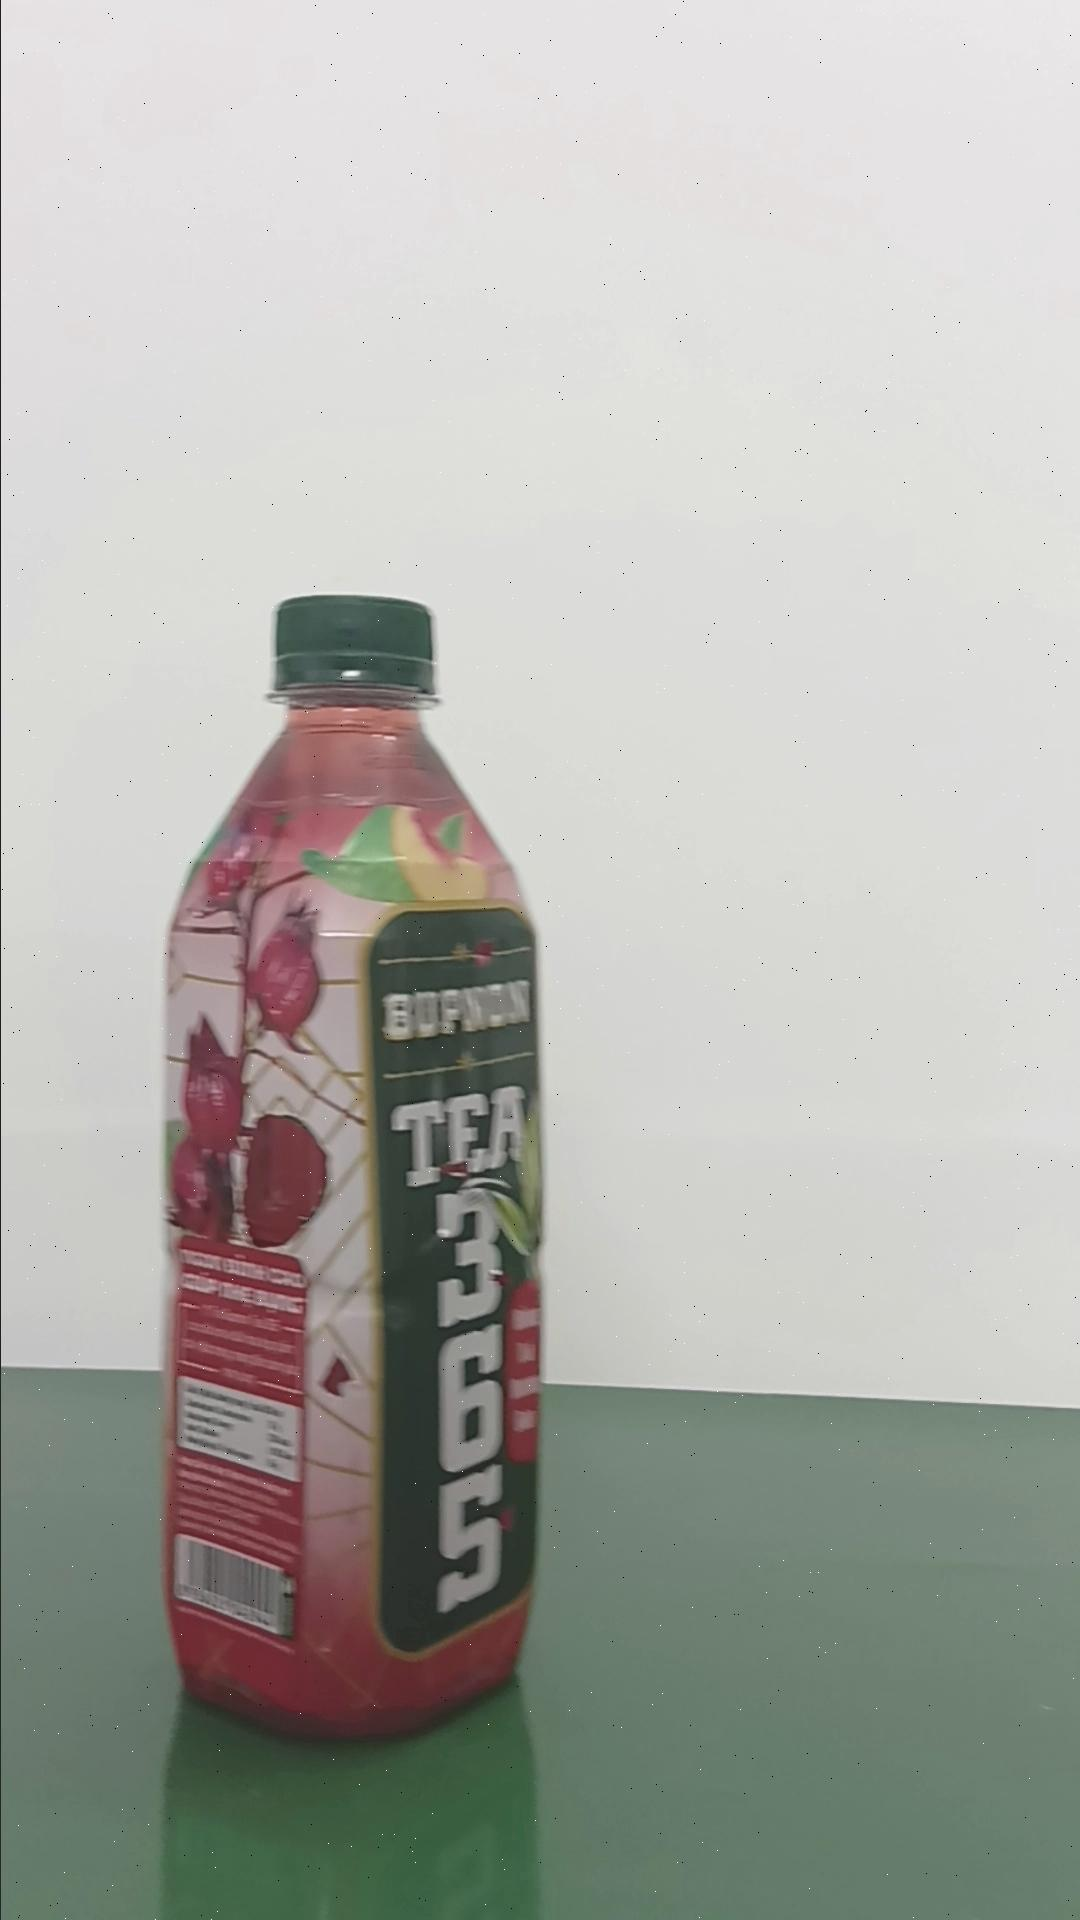loi rach va lap chai: (154, 584, 553, 1762)
